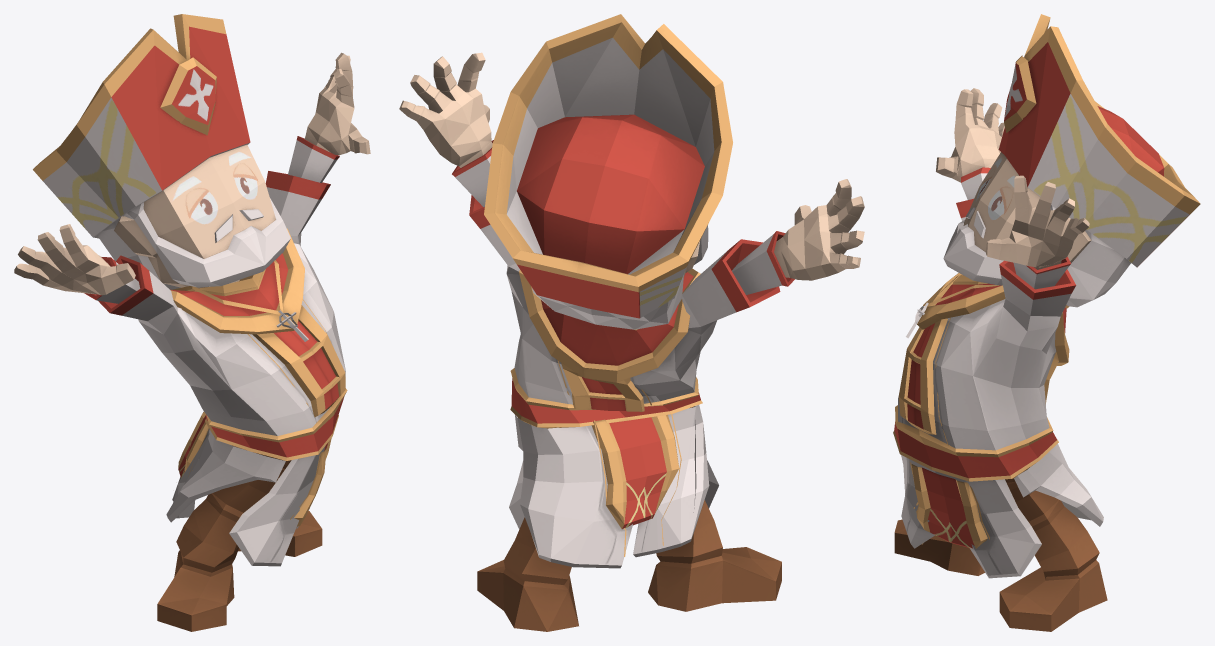
The model's file is SK_Lowpoly_16.gltf.
3 renders of one model, left to right at view 1: azimuth 30°, elevation 25°; view 2: azimuth 150°, elevation 25°; view 3: azimuth 270°, elevation 25°, orthographic. The views are drawn at different scales.
Visible parts, largest first — view 1: SK_Lowpoly_Male_016_Pose2_4_StaticMeshComponent0; view 2: SK_Lowpoly_Male_016_Pose2_4_StaticMeshComponent0; view 3: SK_Lowpoly_Male_016_Pose2_4_StaticMeshComponent0.
Boxes of the visible parts, x1,y1,x2,y2 form: SK_Lowpoly_Male_016_Pose2_4_StaticMeshComponent0: (14, 14, 370, 631); SK_Lowpoly_Male_016_Pose2_4_StaticMeshComponent0: (399, 14, 864, 631); SK_Lowpoly_Male_016_Pose2_4_StaticMeshComponent0: (893, 14, 1200, 631).
Bounding box in the file's own units: 1.17 × 1.66 × 0.849.
Materials: 1 (1 with a texture image).
